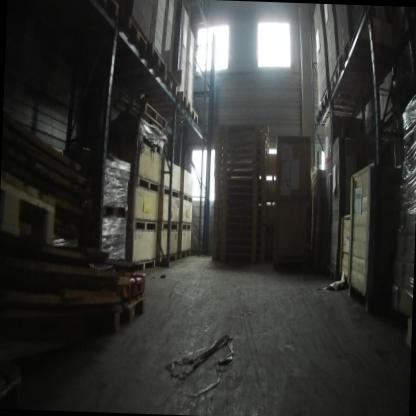pallet: (0, 169, 58, 248), (118, 86, 168, 131), (97, 295, 146, 338), (112, 98, 164, 133), (116, 129, 163, 156), (120, 17, 148, 56), (329, 66, 364, 94), (320, 88, 355, 114), (165, 105, 199, 130), (147, 43, 169, 77), (131, 171, 162, 194), (165, 91, 192, 116), (316, 106, 353, 124), (335, 34, 352, 73), (88, 0, 120, 20), (95, 202, 128, 219), (160, 73, 178, 98), (126, 218, 157, 232), (133, 256, 155, 274), (157, 185, 181, 201), (155, 252, 177, 267), (157, 220, 178, 231), (177, 247, 191, 260), (179, 192, 193, 204), (327, 267, 336, 282), (178, 222, 192, 231)
